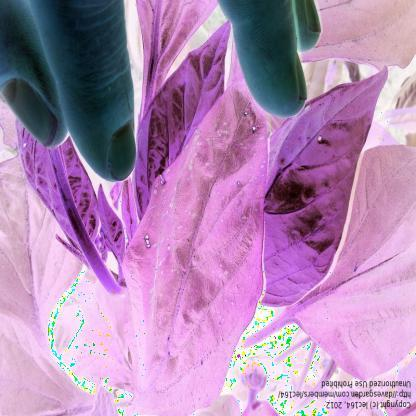Bell_pepper leaf spot: (150, 6, 294, 330), (29, 104, 174, 347), (0, 40, 130, 272), (183, 192, 284, 396), (316, 166, 402, 298)
